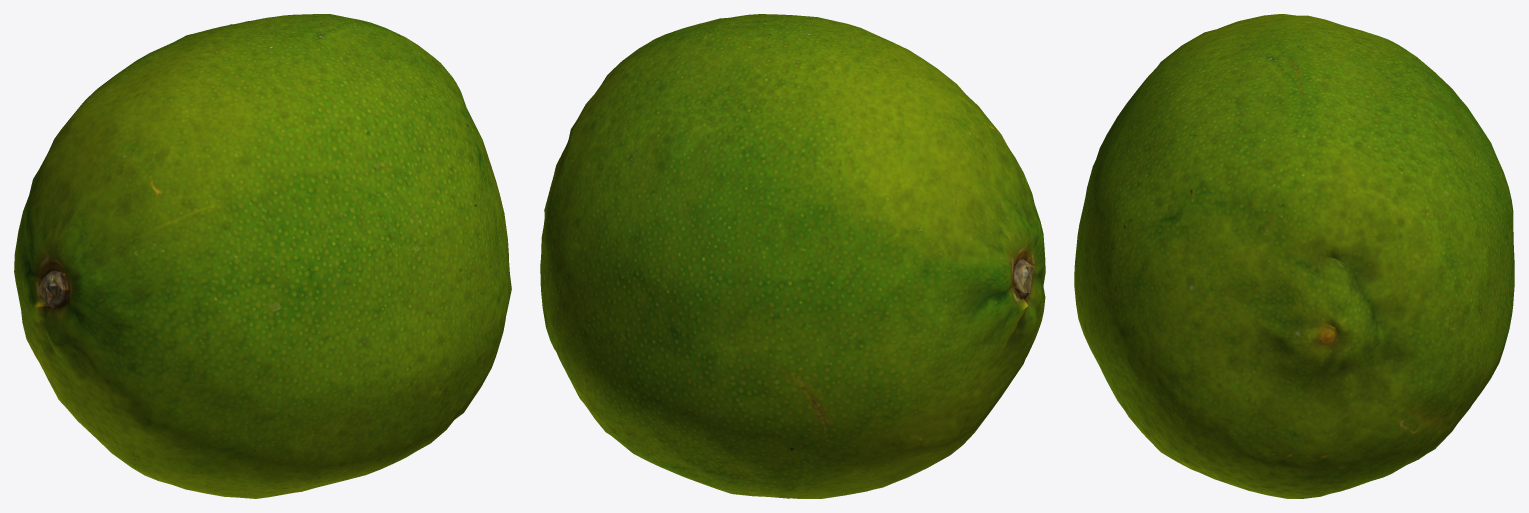
The model's file is lime.glb.
3 renders of one model, left to right at view 1: azimuth 30°, elevation 25°; view 2: azimuth 150°, elevation 25°; view 3: azimuth 270°, elevation 25°, orthographic. The views are drawn at different scales.
Visible parts, largest first — view 1: Object_2; view 2: Object_2; view 3: Object_2.
Part boxes in pixels (box(x1,y1,x2,y2)): Object_2: box(14, 14, 511, 498); Object_2: box(540, 14, 1045, 498); Object_2: box(1074, 14, 1514, 498).
Size of the model in its own units: 23.66 by 22.19 by 20.55.
1 material, 1 textured.
